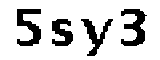3: (117, 6, 157, 52)
5: (12, 4, 46, 52)
s: (49, 17, 77, 50)
y: (80, 13, 114, 60)
